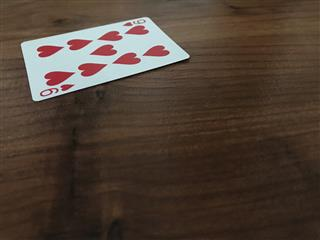NineOfHearts: (19, 15, 190, 101)
